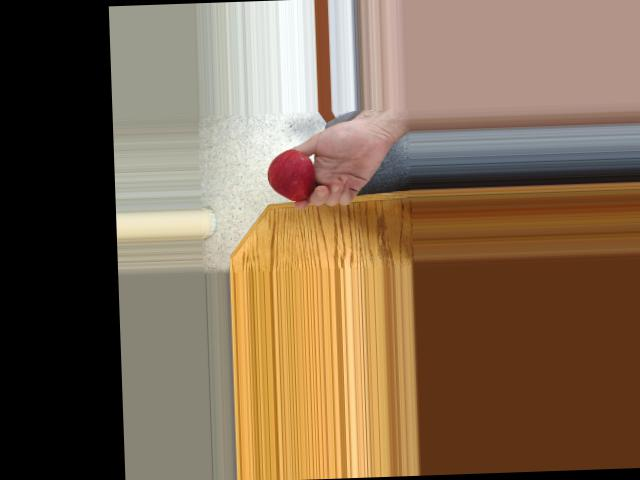apple: (264, 144, 322, 202)
